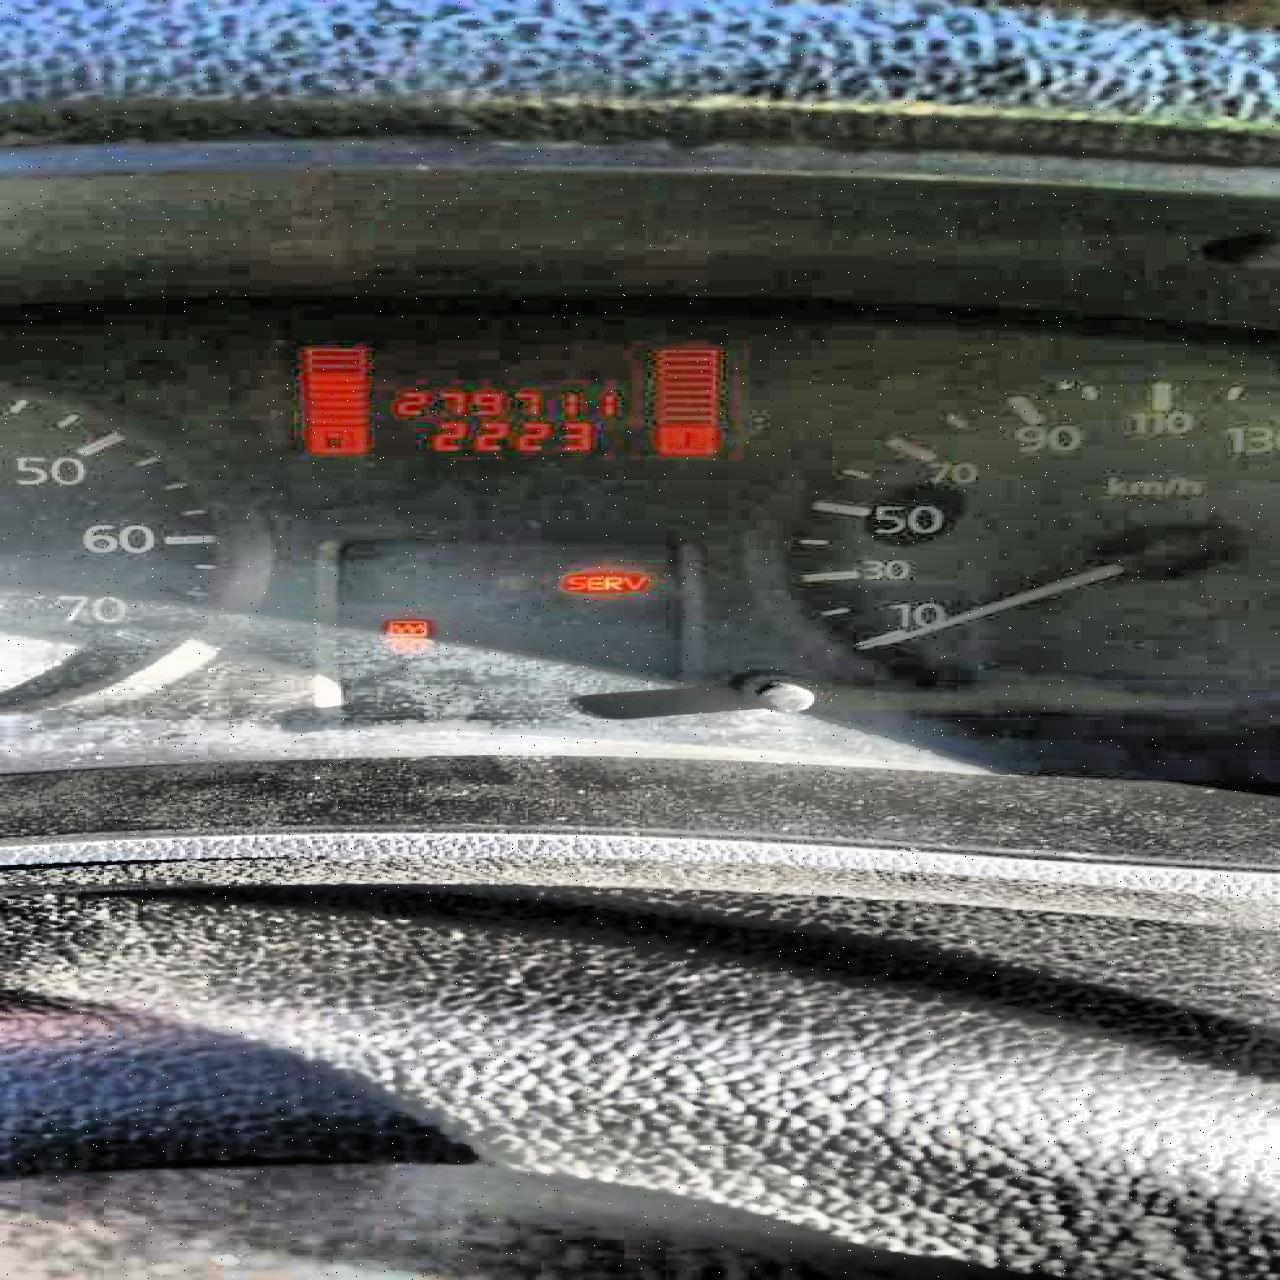1: (563, 394, 578, 416), (601, 394, 614, 416)
2: (429, 421, 463, 450), (474, 422, 508, 450), (518, 421, 549, 450), (393, 390, 424, 415)
3: (559, 420, 587, 450)
7: (516, 392, 539, 414), (440, 392, 463, 414)
9: (471, 392, 499, 415)
odometer: (284, 334, 738, 468)
